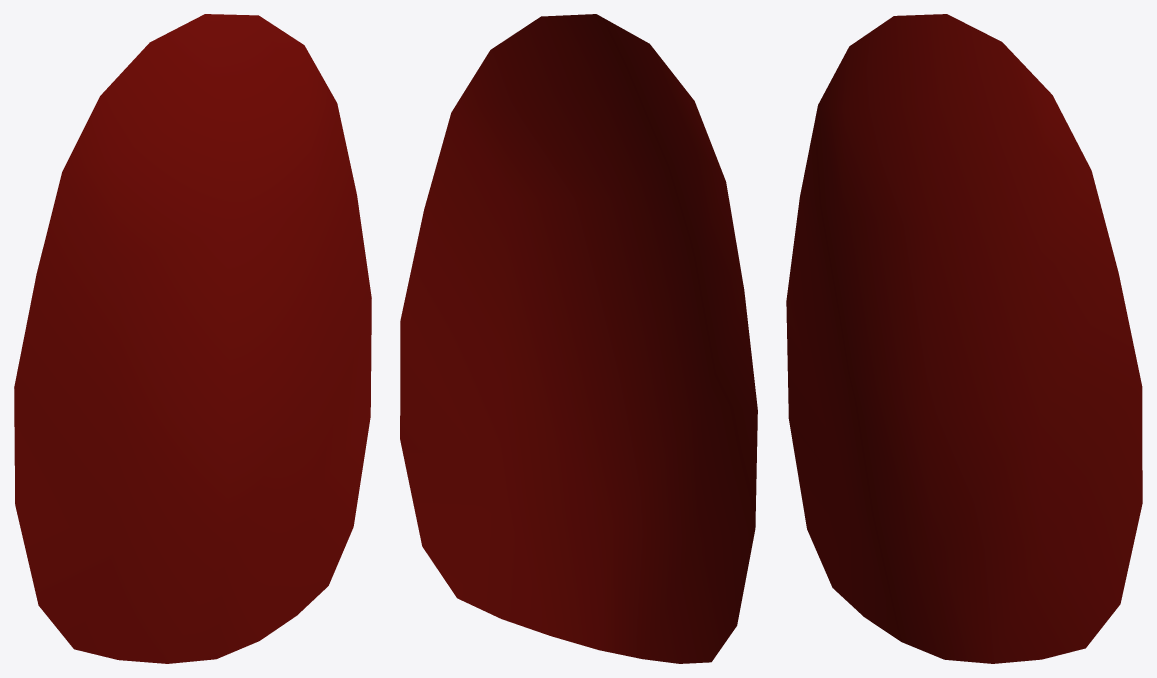
Rendered from MD_nail_natural_HandL.Ring.fbx.
The picture shows the model from 3 angles, left to right: view 1: azimuth 30°, elevation 25°; view 2: azimuth 150°, elevation 25°; view 3: azimuth 330°, elevation 25°; orthographic projection.
Visible parts, largest first — view 1: MD_nail_natural_HandL.Ring; view 2: MD_nail_natural_HandL.Ring; view 3: MD_nail_natural_HandL.Ring.
Part boxes in pixels (left/top/right/bottom): MD_nail_natural_HandL.Ring: left=14, top=14, right=371, bottom=663; MD_nail_natural_HandL.Ring: left=400, top=14, right=757, bottom=663; MD_nail_natural_HandL.Ring: left=786, top=14, right=1142, bottom=663.
Bounding box in the file's own units: 0.6934 × 1.19 × 0.1321.
